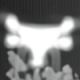plane: (1, 10, 79, 70)
